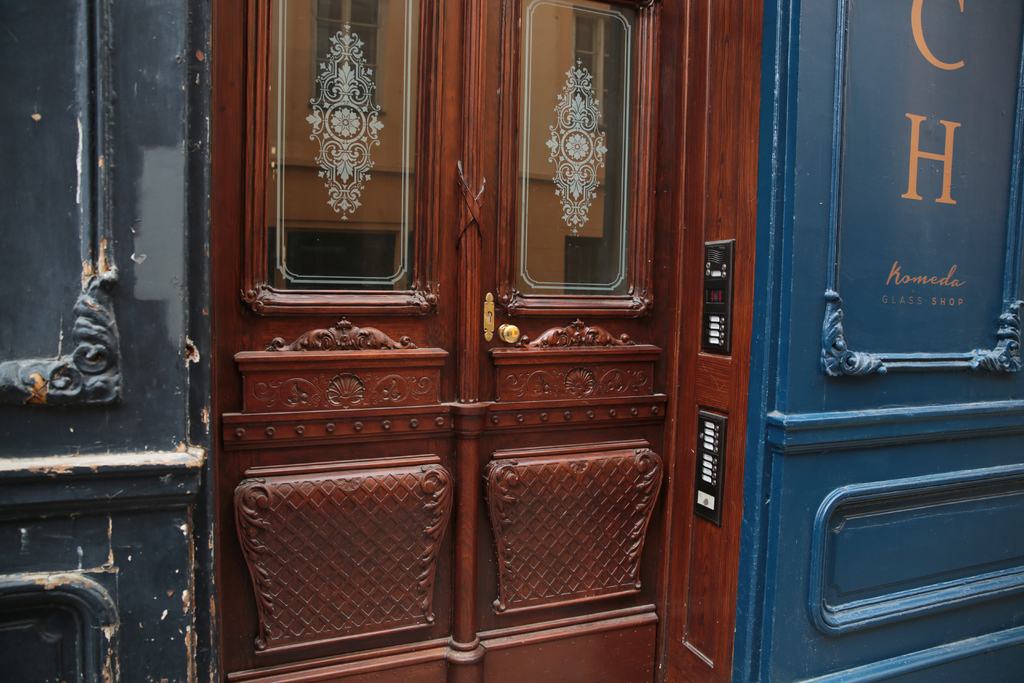door: (248, 22, 450, 683), (489, 7, 663, 681)
handle: (497, 319, 524, 345)
